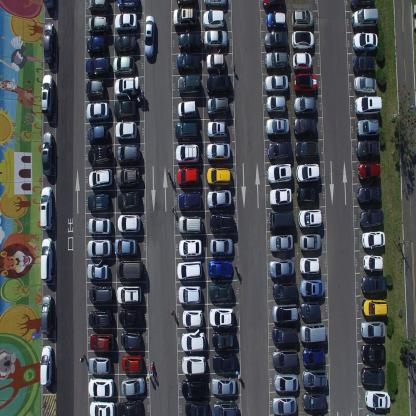car: (351, 7, 378, 31), (354, 93, 382, 116), (114, 74, 139, 99), (116, 258, 144, 280), (268, 209, 294, 232), (172, 7, 198, 30), (40, 186, 53, 232), (299, 322, 326, 344), (271, 347, 298, 369), (301, 368, 328, 390), (205, 74, 232, 96), (88, 376, 115, 398), (40, 237, 53, 282), (41, 73, 54, 118), (88, 167, 113, 190), (273, 372, 299, 394), (181, 378, 207, 400), (267, 139, 293, 161), (356, 185, 382, 207), (364, 388, 390, 410), (271, 325, 298, 346), (42, 130, 54, 177), (40, 344, 53, 387), (175, 120, 199, 143), (177, 189, 201, 212), (293, 72, 317, 95), (361, 364, 385, 387), (175, 142, 200, 164), (266, 161, 291, 183), (302, 390, 327, 412), (208, 258, 233, 280), (181, 330, 206, 352), (115, 166, 140, 188), (265, 115, 290, 137), (292, 116, 317, 138), (293, 138, 318, 160), (206, 165, 232, 186), (116, 283, 142, 304), (272, 302, 298, 323), (211, 330, 237, 351), (85, 57, 111, 78), (86, 238, 112, 259), (144, 13, 156, 58), (361, 298, 388, 318), (40, 294, 53, 335), (360, 275, 388, 294), (88, 144, 111, 167), (356, 116, 379, 139), (177, 165, 201, 187), (177, 73, 201, 95), (114, 11, 138, 33), (114, 119, 138, 141), (116, 144, 140, 166), (87, 191, 111, 213), (43, 21, 55, 65), (264, 50, 288, 72), (264, 72, 288, 94), (209, 212, 234, 233), (209, 306, 234, 327), (269, 258, 295, 278), (206, 189, 232, 209), (177, 214, 203, 234), (176, 260, 202, 280), (181, 355, 207, 375), (352, 32, 378, 52), (358, 209, 384, 229), (360, 342, 386, 362), (359, 320, 386, 339), (296, 183, 319, 205), (291, 8, 314, 30), (117, 190, 140, 212), (204, 29, 228, 50), (116, 398, 144, 416), (87, 354, 111, 375), (293, 95, 317, 116), (352, 54, 376, 75), (357, 161, 381, 182), (299, 278, 324, 298), (272, 395, 297, 415), (208, 282, 233, 302), (177, 284, 202, 304), (117, 213, 142, 233), (212, 353, 238, 372), (87, 14, 109, 36), (206, 96, 229, 117), (202, 8, 225, 29), (291, 30, 314, 51), (114, 34, 137, 55), (206, 142, 230, 162), (298, 208, 322, 228), (268, 186, 292, 206), (361, 230, 385, 250), (119, 307, 143, 327), (270, 234, 294, 254), (178, 238, 202, 258), (176, 52, 200, 72), (178, 31, 202, 51), (121, 376, 145, 396), (86, 101, 110, 121), (86, 261, 110, 281), (88, 284, 112, 304), (356, 140, 380, 160), (272, 281, 297, 300), (209, 237, 234, 256), (263, 31, 288, 50), (352, 75, 377, 94), (210, 377, 236, 395), (302, 346, 324, 367), (177, 99, 198, 121), (265, 10, 286, 32), (87, 124, 109, 145), (265, 94, 287, 115), (113, 99, 136, 119), (114, 236, 137, 256), (121, 354, 144, 374), (88, 216, 112, 235), (88, 309, 112, 328), (89, 333, 114, 351), (206, 120, 228, 140), (182, 308, 204, 328), (113, 56, 136, 75), (119, 330, 142, 349), (295, 162, 319, 180), (299, 254, 320, 274), (86, 35, 107, 55), (212, 400, 238, 416), (89, 400, 115, 416), (206, 51, 226, 71), (85, 78, 105, 98), (299, 232, 321, 250), (300, 300, 320, 319), (362, 254, 383, 272), (184, 400, 209, 415), (292, 52, 312, 70), (87, 0, 110, 15), (349, 0, 374, 10), (117, 0, 139, 11), (261, 0, 285, 10), (203, 0, 227, 8), (176, 0, 198, 7), (42, 0, 54, 12)
